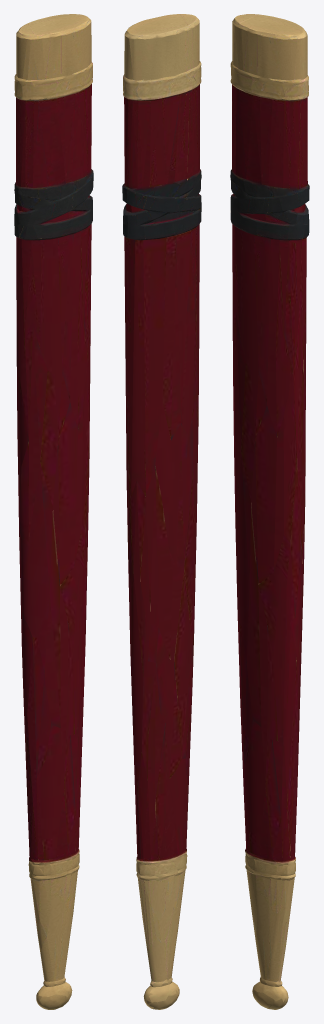
File: scabbard_p3_w0.glb
The picture shows the model from 3 angles, left to right: view 1: azimuth 30°, elevation 25°; view 2: azimuth 210°, elevation 25°; view 3: azimuth 330°, elevation 25°; orthographic projection.
Visible parts, largest first — view 1: scabbard_p3_w0; view 2: scabbard_p3_w0; view 3: scabbard_p3_w0.
Boxes of the visible parts, x1,y1,x2,y2 form: scabbard_p3_w0: (14,14,93,1009); scabbard_p3_w0: (122,14,201,1009); scabbard_p3_w0: (230,14,309,1009).
Size of the model in its own units: 0.0629 by 0.775 by 0.0308.
1 material, 1 textured.
